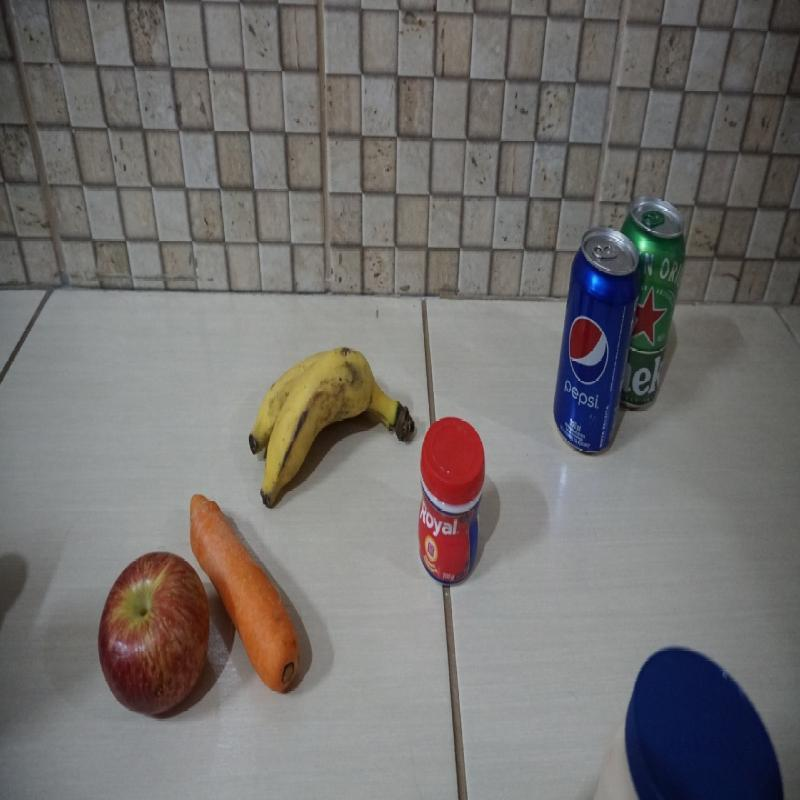Apple: (98, 553, 210, 716)
Banana: (249, 344, 415, 508)
Beer can: (618, 196, 687, 411)
Carrot: (189, 491, 300, 696)
Soda can: (554, 228, 639, 456)
Yeast: (418, 414, 487, 588)
